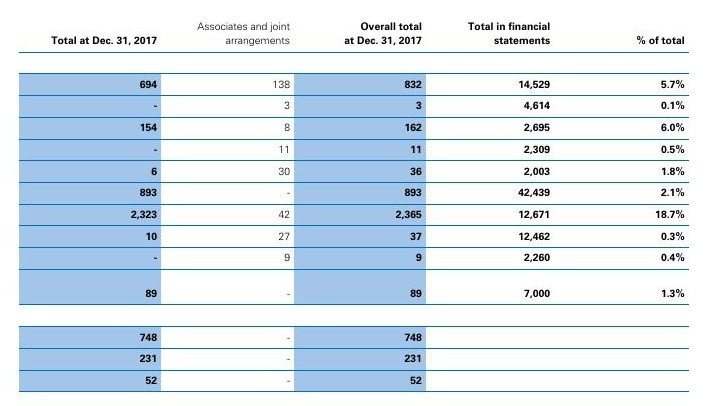table: (0, 0, 712, 406)
